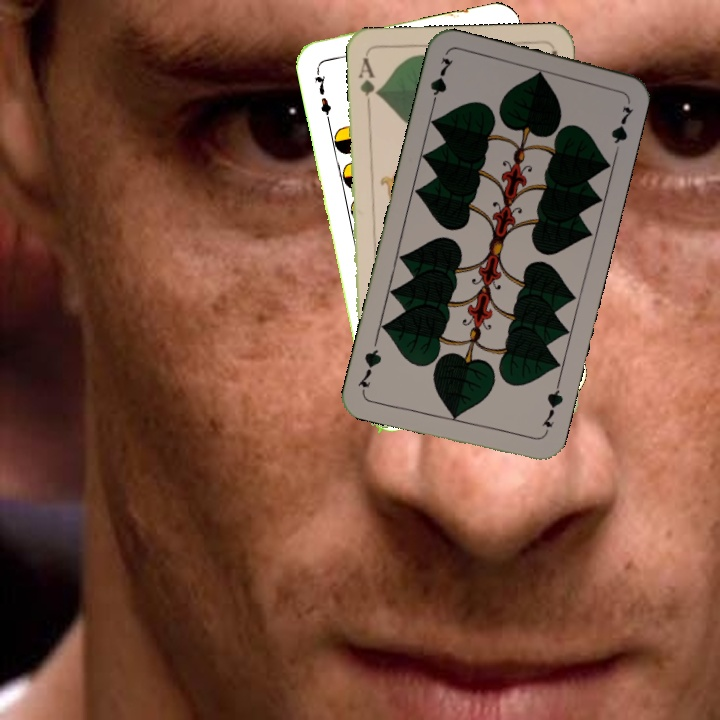E7: (311, 64, 334, 123)
G7: (426, 53, 456, 111), (538, 379, 566, 430)
GA: (354, 54, 382, 112)
